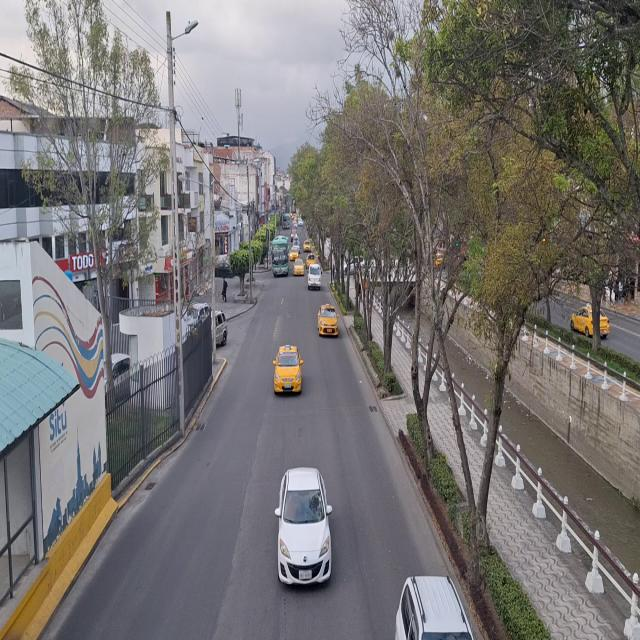BUS: (274, 240, 290, 276)
SED: (276, 469, 328, 586), (275, 345, 302, 392)
TRUCK: (307, 263, 321, 290)
